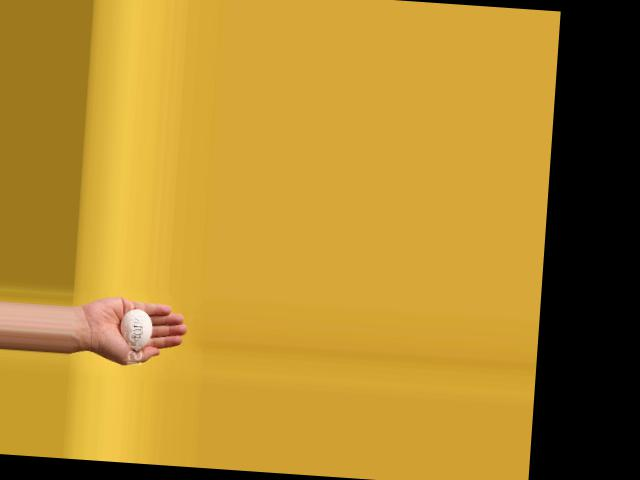egg: (119, 307, 153, 351)
